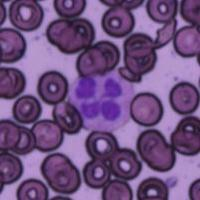N: (66, 69, 134, 132)
